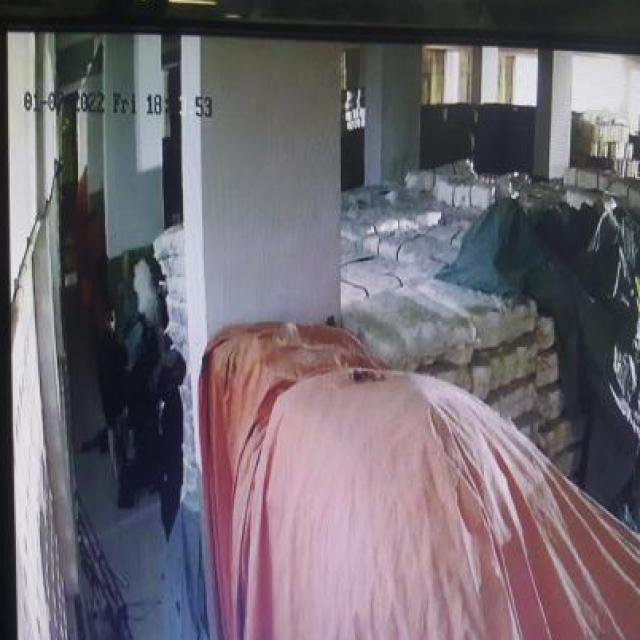fire: (130, 252, 153, 329)
